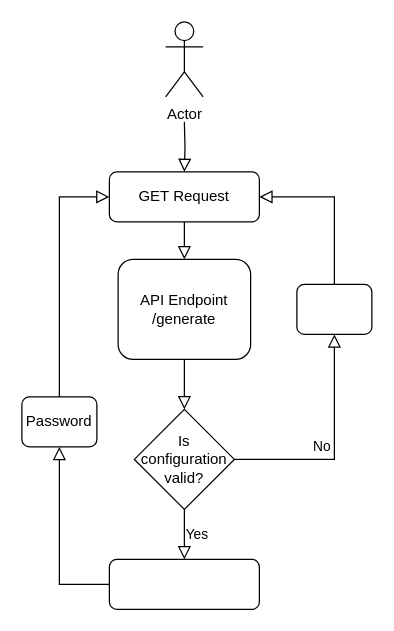
This 394x631 diagram has some shape labels left out. The shapes that lost their labels are listed below. From the top down, each one's box as (x1, y1, x2, y2) in pixels, then its label:
(296, 283, 372, 334): Error Message
(108, 558, 259, 609): Password Generator
